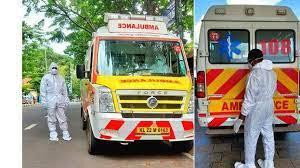ER: (80, 13, 194, 155), (196, 5, 300, 136)
